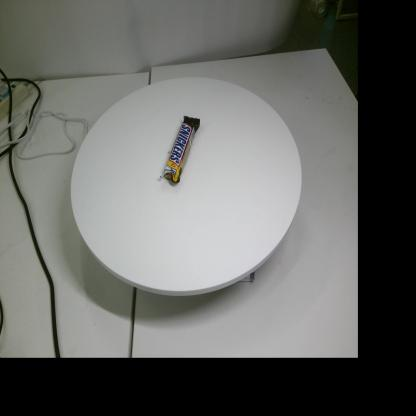Chocolate: (160, 115, 200, 184)
